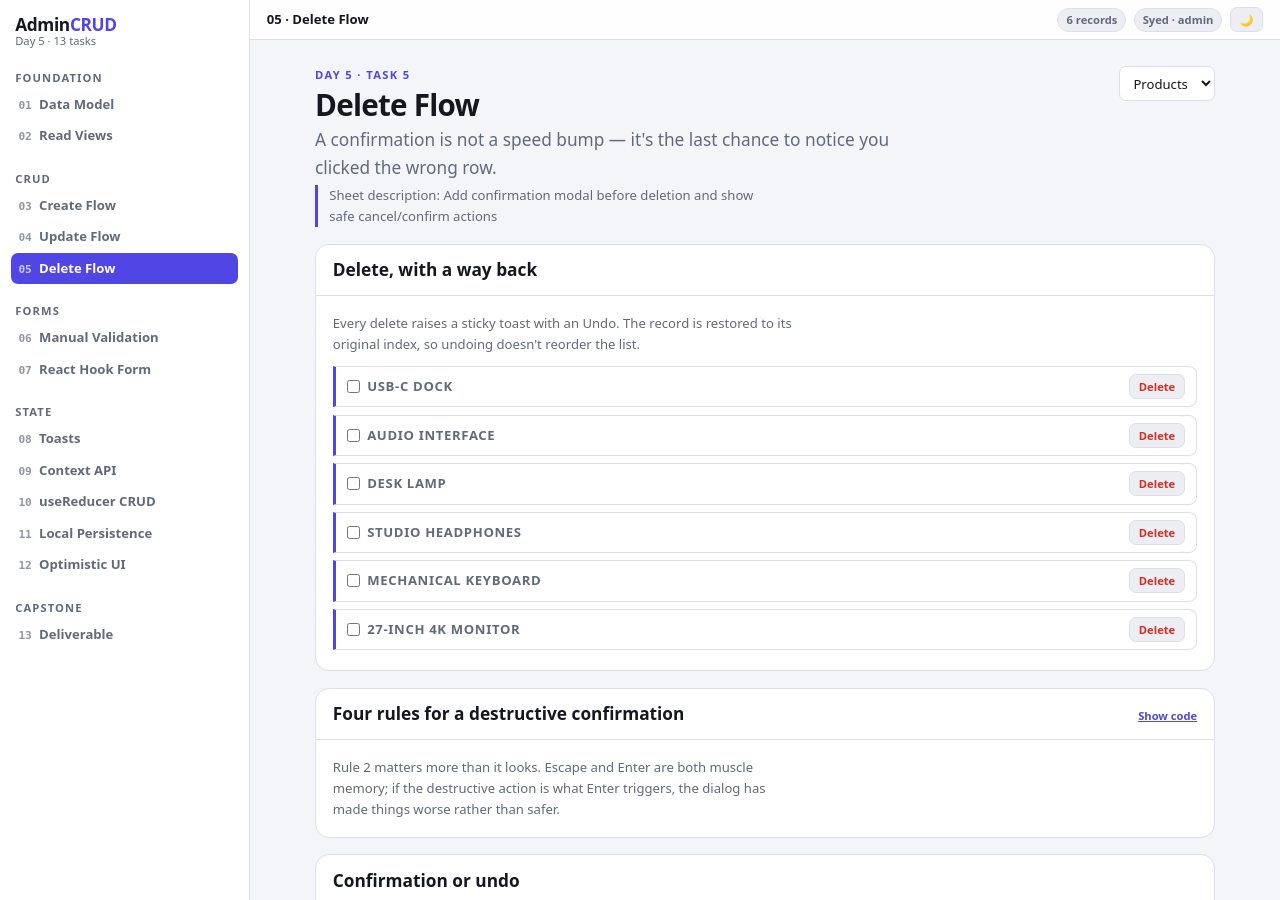
it: task 5 — delete flow › asks for confirmation before deleting
Check: the text "Day 5 · Task 5" is shown, box [315,67,410,82]
Click the button "Delete" in the row of "USB-C dock": [1157, 387] box [1129,374,1185,399]
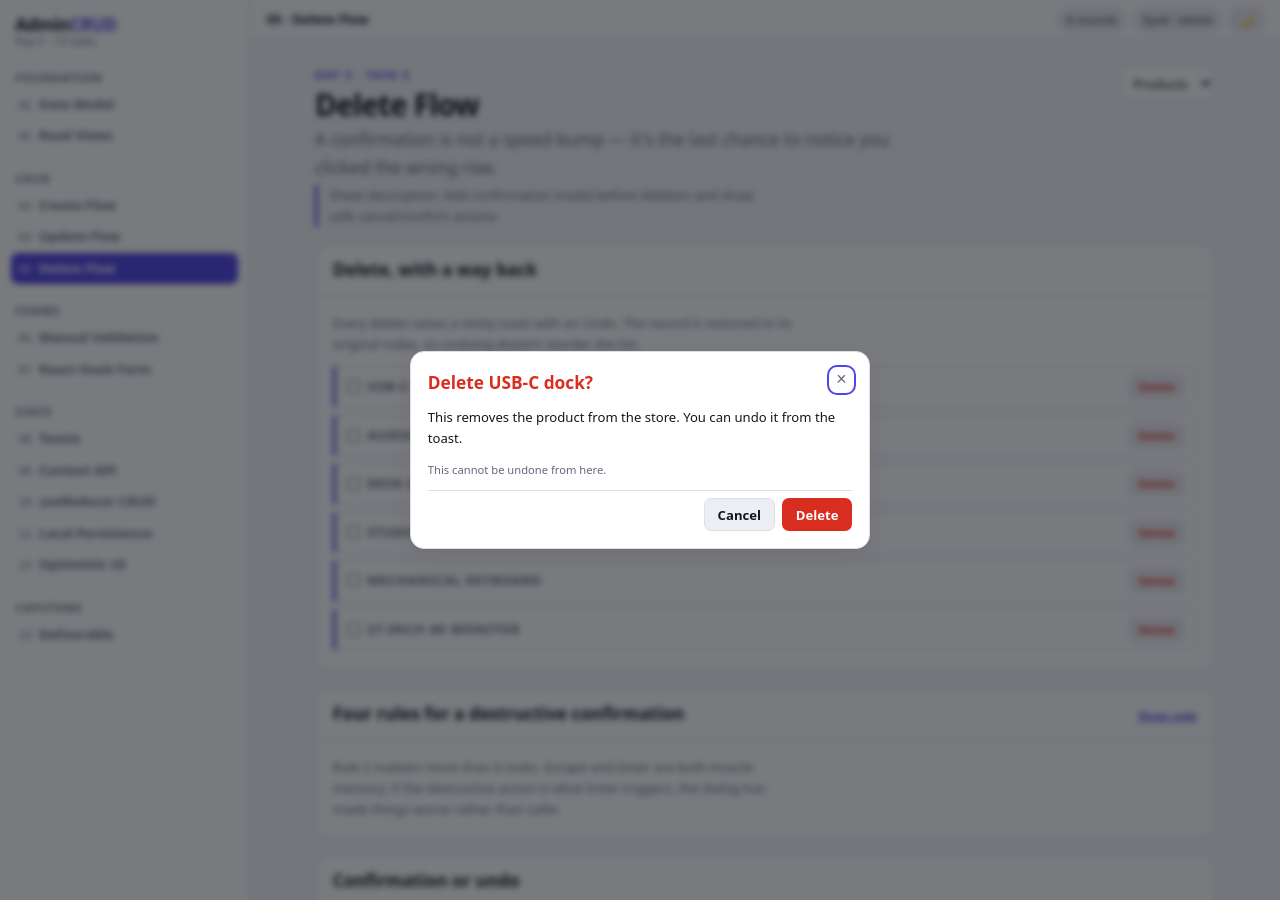
Check: the text "This cannot be undone from here." is shown, box [428,462,606,477]
